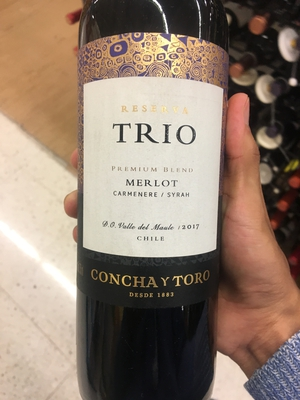trio merlot: (68, 18, 241, 393)
